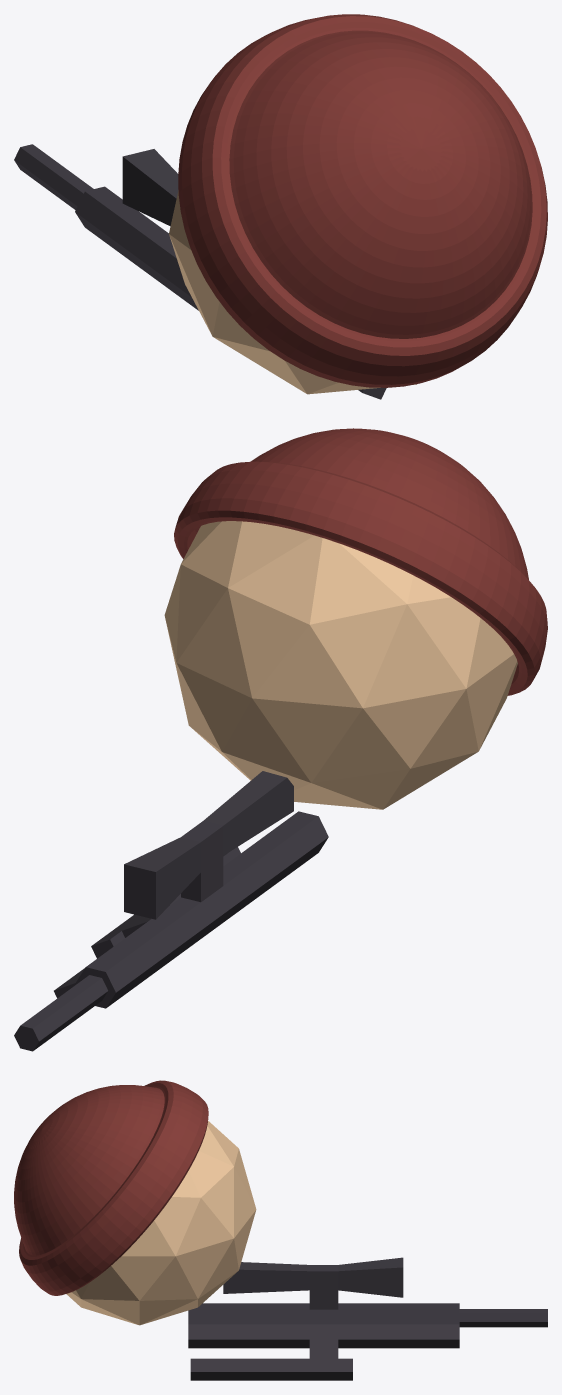
The model's file is персонаж для хоррора с лидаром с текстурками.fbx.
The picture shows the model from 3 angles, top to bottom: view 1: azimuth 30°, elevation 25°; view 2: azimuth 150°, elevation 25°; view 3: azimuth 270°, elevation 25°; orthographic projection. The views are drawn at different scales.
Parts seen in each view (by area): view 1: Sphere, Cylinder, Icosphere; view 2: Icosphere, Sphere, Cylinder; view 3: Sphere, Cylinder, Icosphere.
Boxes of the visible parts, x1,y1,x2,y2 form: Sphere: (178, 14, 547, 387); Cylinder: (14, 144, 386, 399); Icosphere: (169, 190, 416, 394); Icosphere: (164, 521, 517, 809); Sphere: (174, 428, 547, 695); Cylinder: (14, 771, 328, 1051); Sphere: (14, 1080, 208, 1295); Cylinder: (188, 1257, 547, 1380); Icosphere: (66, 1121, 256, 1325).
Bounding box in the file's own units: 214 × 248 × 457.
